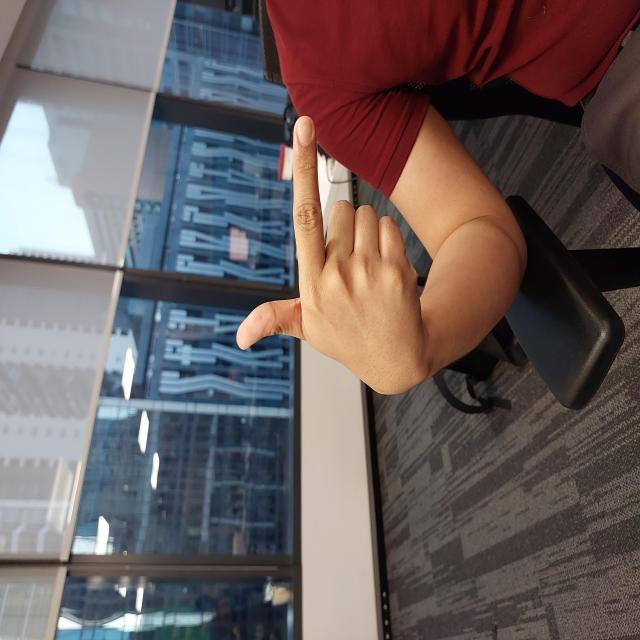G: (243, 234, 527, 428)
